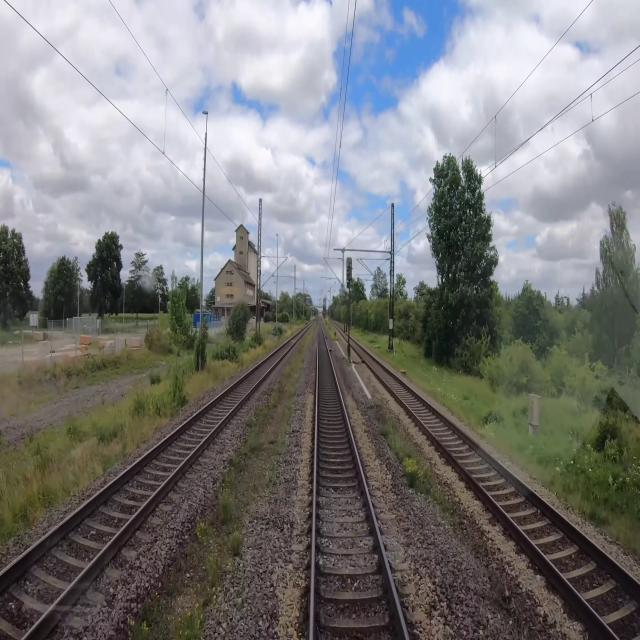Plant: (217, 339, 308, 526), (378, 413, 459, 530), (124, 590, 168, 639), (168, 600, 206, 639), (198, 553, 222, 607), (229, 530, 243, 559), (196, 522, 209, 543)
